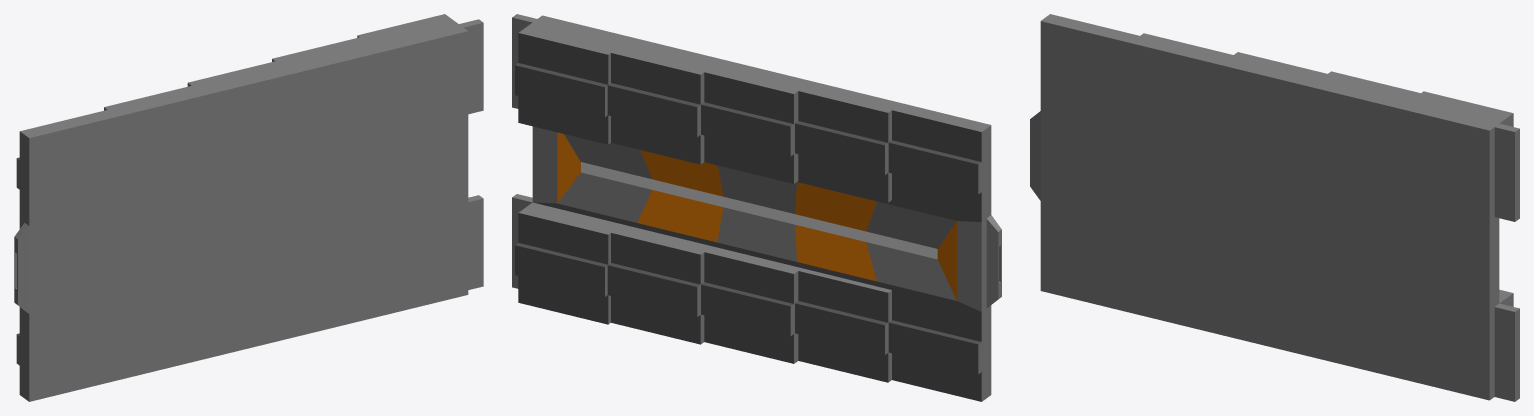
File: Wall.fbx
3 views of the same model, side by side, from view 1: azimuth 30°, elevation 25°; view 2: azimuth 150°, elevation 25°; view 3: azimuth 330°, elevation 25° (orthographic). The views are drawn at different scales.
Parts seen in each view (by area): view 1: Cube; view 2: Cube; view 3: Cube.
Boxes of the visible parts, left/top/right/bottom form: Cube: left=14, top=14, right=483, bottom=401; Cube: left=512, top=14, right=1001, bottom=401; Cube: left=1030, top=14, right=1519, bottom=401.
Size of the model in its own units: 939 by 504 by 92.03.
